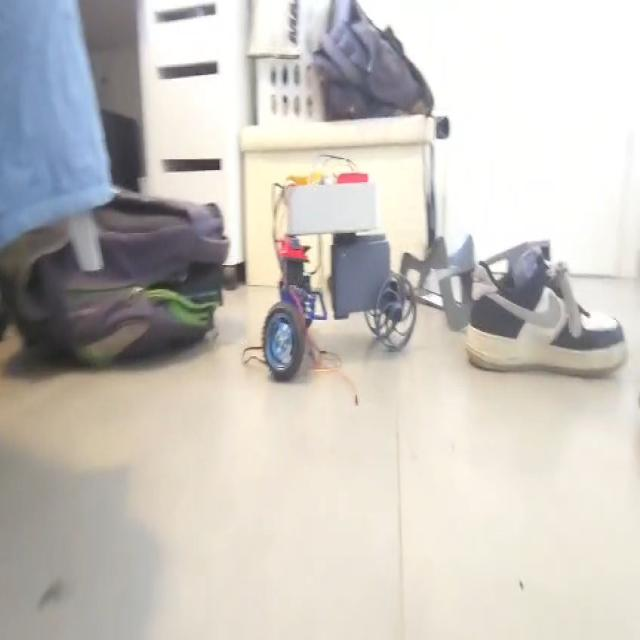Robot: (263, 171, 416, 380)
